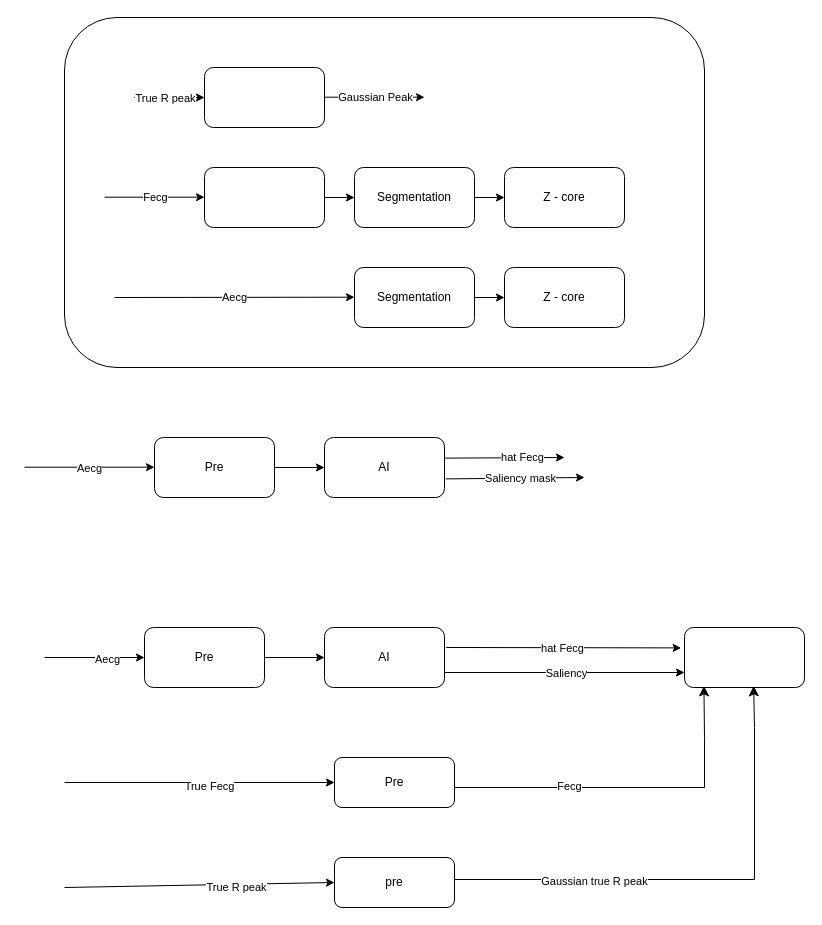
Image size: 822x925. Some labels were removed from this diagram. Each missing label, with the centre of its shape:
"Gaussian" goes at pixel 264 97.
"Loss" goes at pixel 744 657.
"Lọc 15-75" goes at pixel 264 197.
